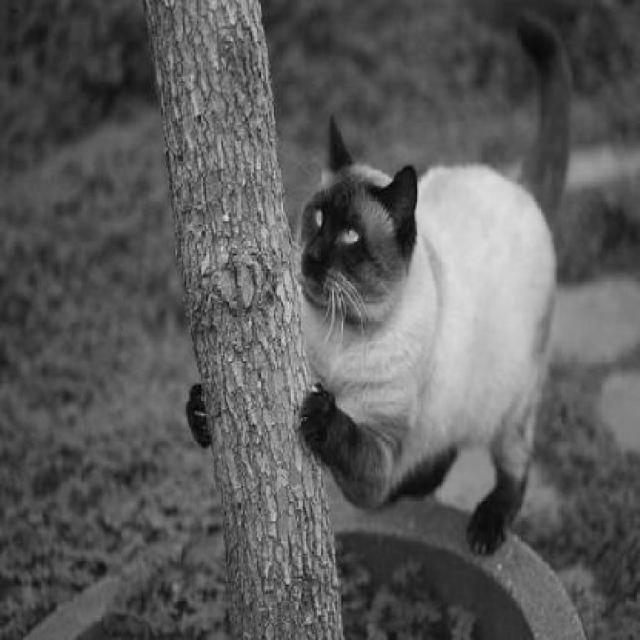Cat: (185, 15, 573, 560)
